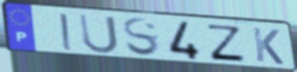4: (168, 20, 204, 61)
I: (58, 12, 75, 52)
K: (251, 26, 286, 67)
S: (121, 16, 162, 58)
U: (77, 13, 121, 55)
Z: (206, 23, 248, 64)
